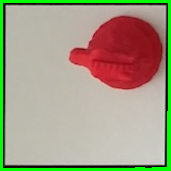Red Knight: (66, 9, 164, 94)
